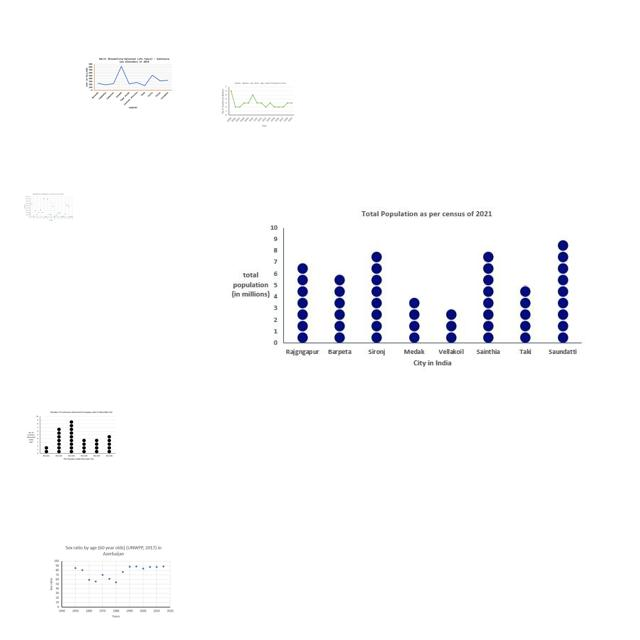Graph: (227, 207, 587, 371), (46, 544, 176, 620), (84, 55, 173, 110), (26, 410, 117, 462), (221, 81, 295, 128), (23, 193, 73, 221)
